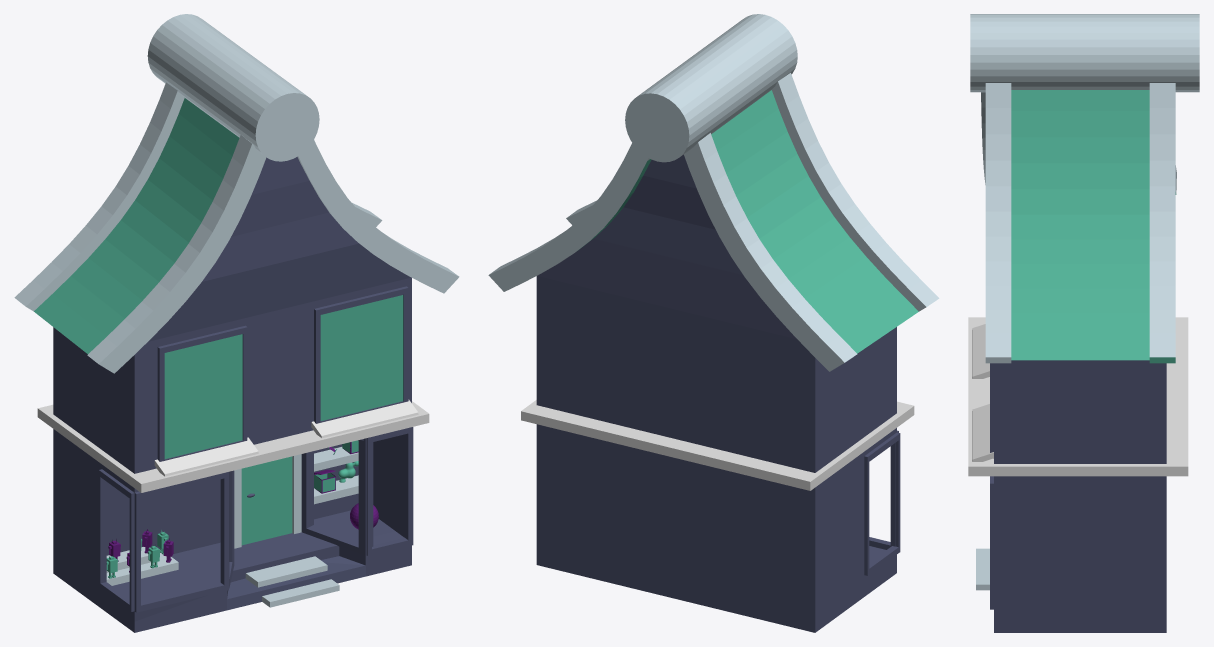
The model's file is the toy store.fbx.
3 views of the same model, side by side, from view 1: azimuth 30°, elevation 25°; view 2: azimuth 150°, elevation 25°; view 3: azimuth 270°, elevation 25° (orthographic). The views are drawn at different scales.
Visible parts, largest first — view 1: Cube, Cylinder, Plane.001, Cube.002, Plane, Cube.006; view 2: Cube, Cylinder, Cube.002; view 3: Cylinder, Cube, Cube.002.
Part boxes in pixels (bbox=[...]): Cube: bbox=[53, 157, 413, 632]; Cylinder: bbox=[14, 14, 459, 373]; Plane.001: bbox=[320, 295, 403, 420]; Cube.002: bbox=[37, 399, 429, 492]; Plane: bbox=[164, 334, 242, 458]; Cube.006: bbox=[106, 447, 358, 585]; Cube: bbox=[536, 154, 900, 632]; Cylinder: bbox=[488, 14, 939, 371]; Cube.002: bbox=[521, 400, 914, 490]; Cylinder: bbox=[970, 14, 1199, 363]; Cube: bbox=[976, 360, 1166, 632]; Cube.002: bbox=[968, 317, 1188, 476].
Size of the model in its own units: 5122 by 6965 by 2678.
